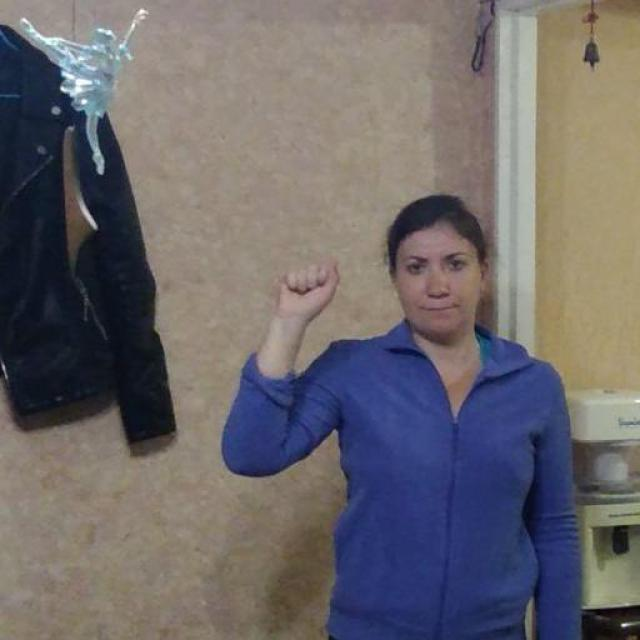hand: (274, 258, 341, 322)
